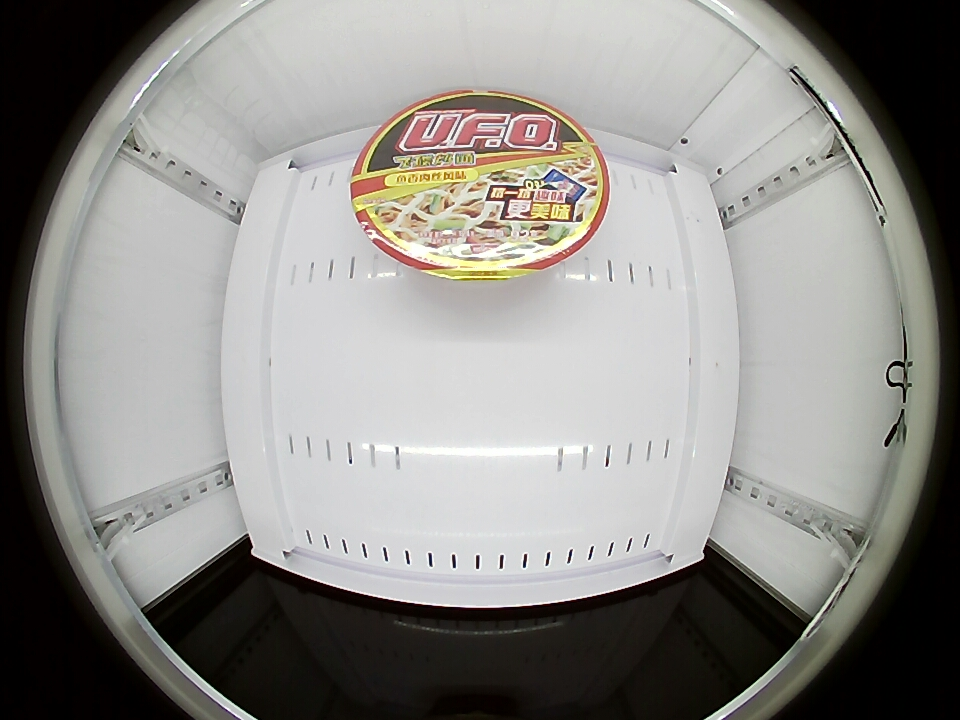ufo2: (350, 91, 610, 279)
